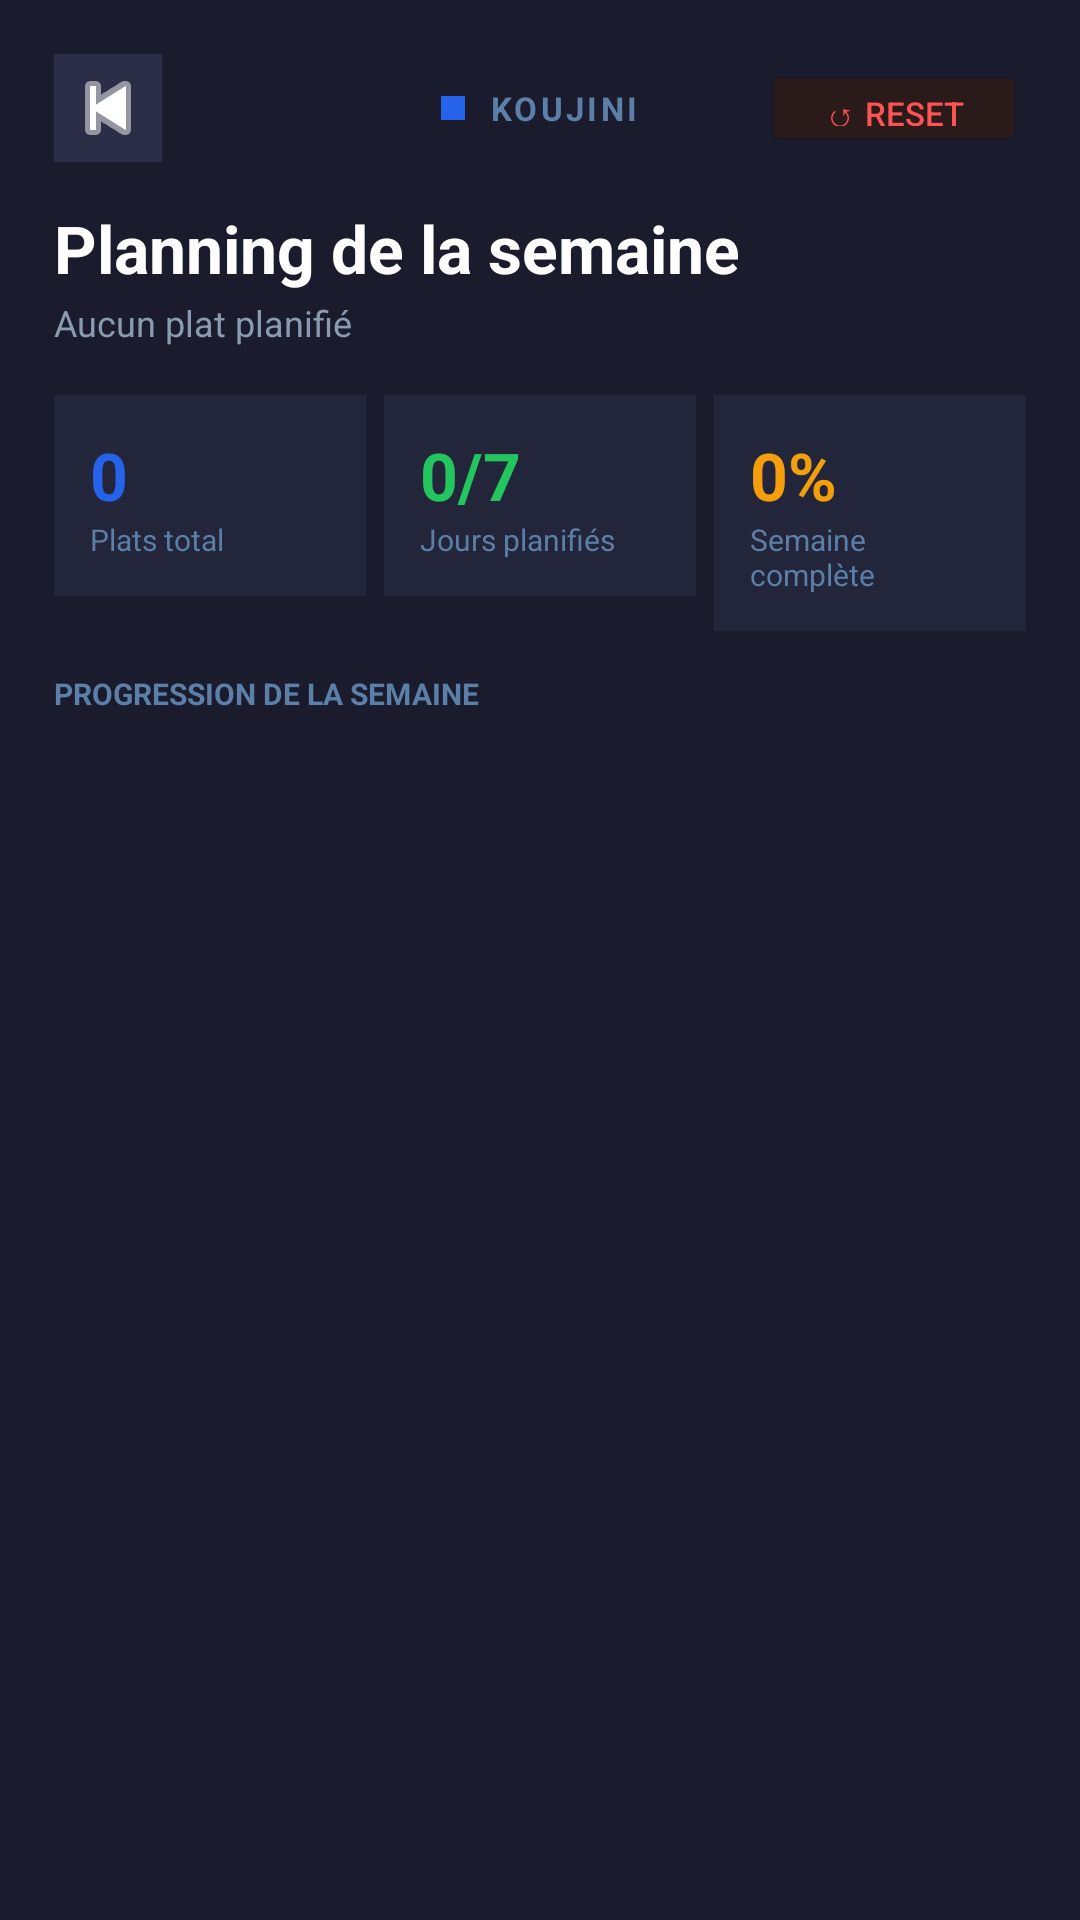

Locate icon controls on the screen. Image size 1080px×1920px, boxes as (x1, y1, x2, y2).
previous: (85, 81, 131, 135)
